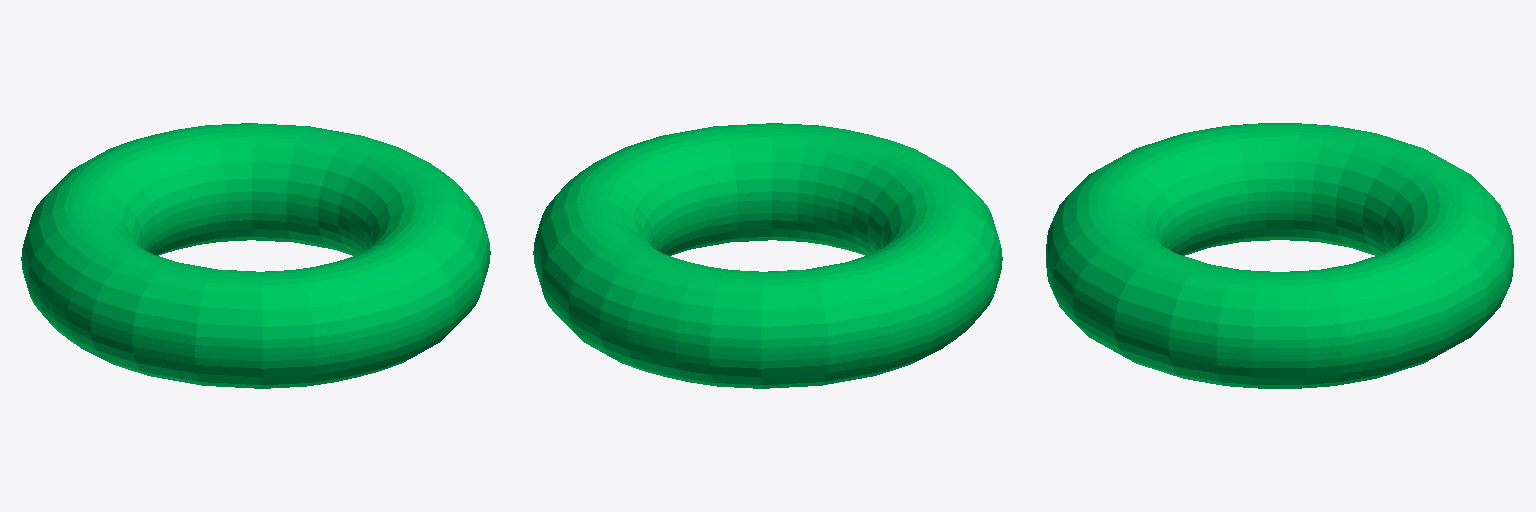
The picture shows the model from 3 angles: view 1: azimuth 30°, elevation 25°; view 2: azimuth 150°, elevation 25°; view 3: azimuth 270°, elevation 25°; orthographic projection.
Parts seen in each view (by area): view 1: SurfTorus; view 2: SurfTorus; view 3: SurfTorus.
Boxes of the visible parts, <box> form: SurfTorus: <box>21,123,490,388</box>; SurfTorus: <box>533,123,1002,388</box>; SurfTorus: <box>1046,123,1513,388</box>.
Bounding box in the file's own units: 2 × 0.5 × 2.